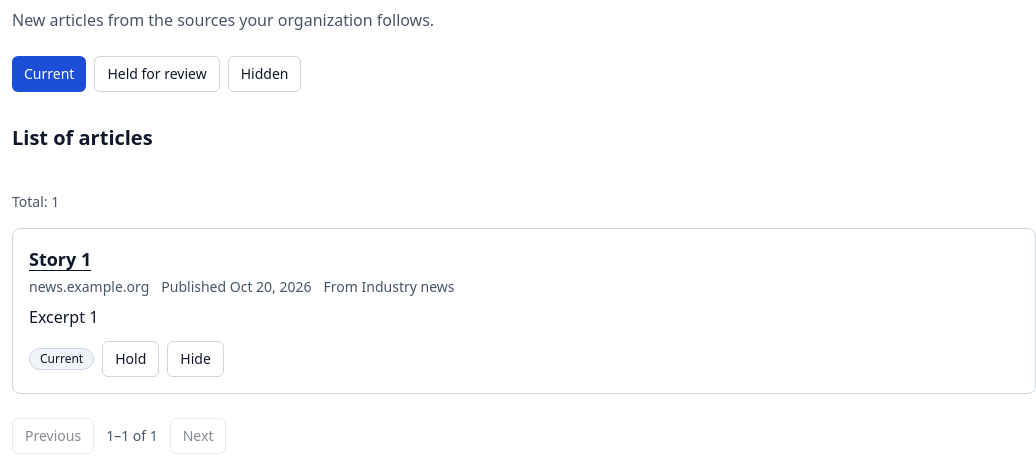
Test: a reviewer › chooses which state to look at, and sees why an article is held
Check: the text "From Industry news" is shown, box [324,277,454,297]
Click the button "Held for review".
click(157, 74)  # box [94,56,220,92]
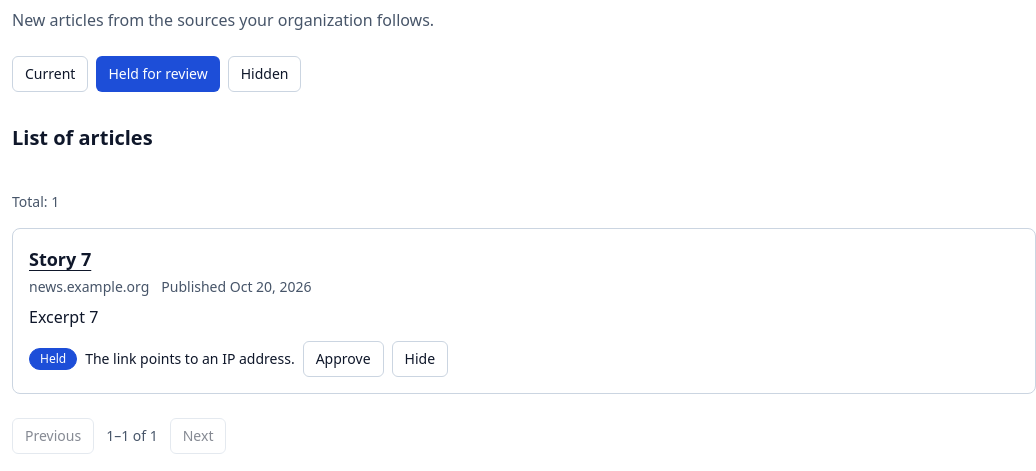
Check: the link "Story 7" is shown, box [29,247,91,271]
Check: the text "The link points to an IP address." is shown, box [85,349,295,369]
Check: the text "Held" is shown, box [29,348,77,370]
